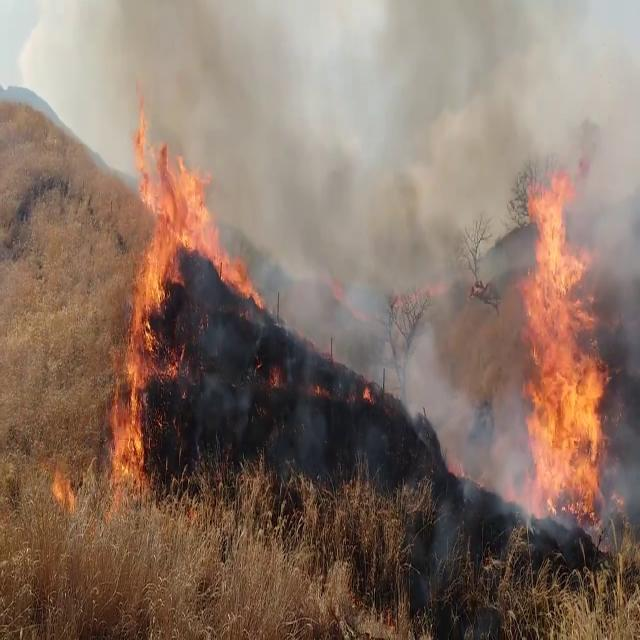Fire: (116, 56, 205, 487), (508, 192, 626, 516), (184, 198, 274, 316)
Smoke: (197, 7, 520, 490)
